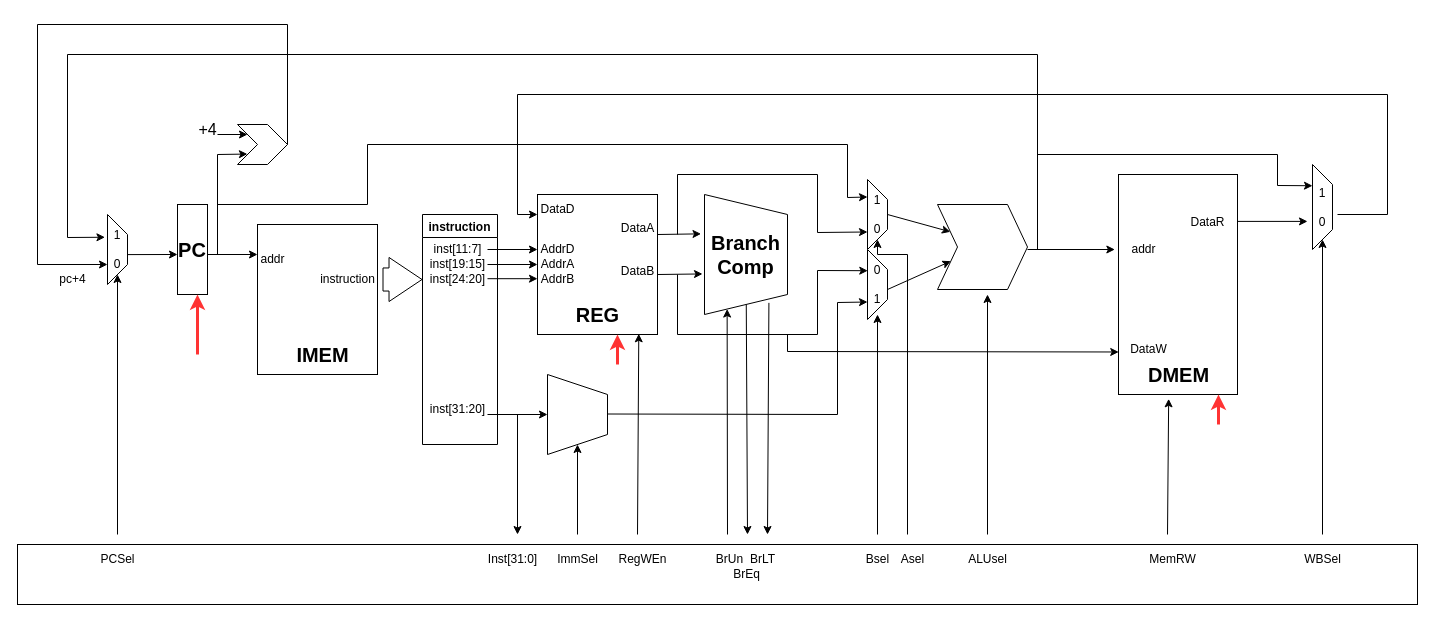
This 1435x622 diagram has some shape labels left out. The shapes that lost their labels are listed below. From the top down, each one's centre as x and y in pixels, then its label:
At (262,144): "add".
At (982,247): "ALU".
At (577,414): "Imm. Gen".
